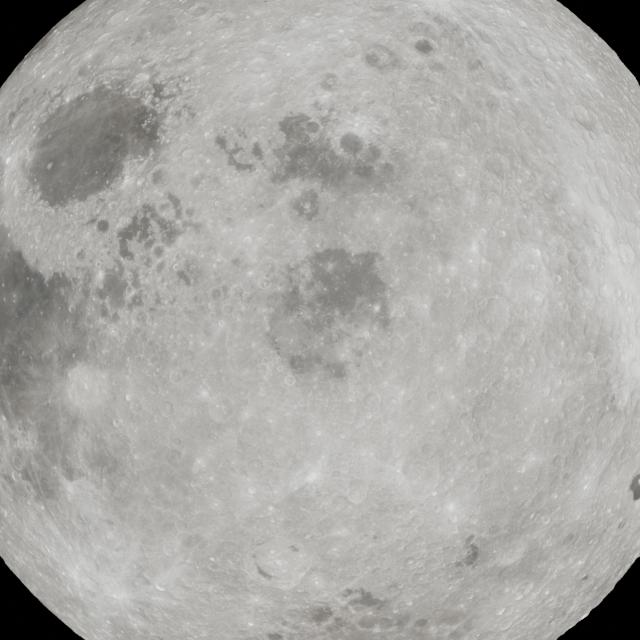crater: (336, 37, 362, 58), (150, 164, 172, 185), (475, 452, 493, 471), (156, 200, 175, 217), (180, 146, 197, 161), (363, 392, 379, 407), (160, 401, 175, 416), (168, 370, 183, 384), (567, 250, 581, 265), (551, 453, 563, 467), (74, 248, 86, 260), (497, 228, 508, 240), (553, 274, 563, 284)
